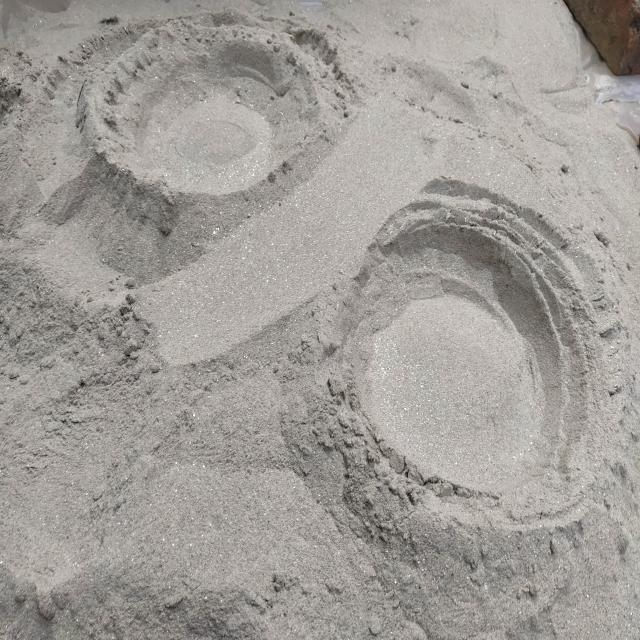C20: (353, 215, 581, 498), (97, 23, 334, 195)
